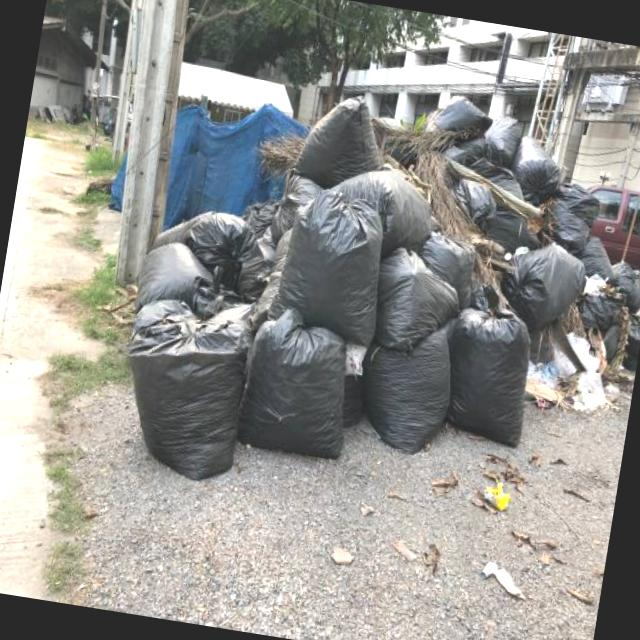garbage: (98, 40, 640, 551)
